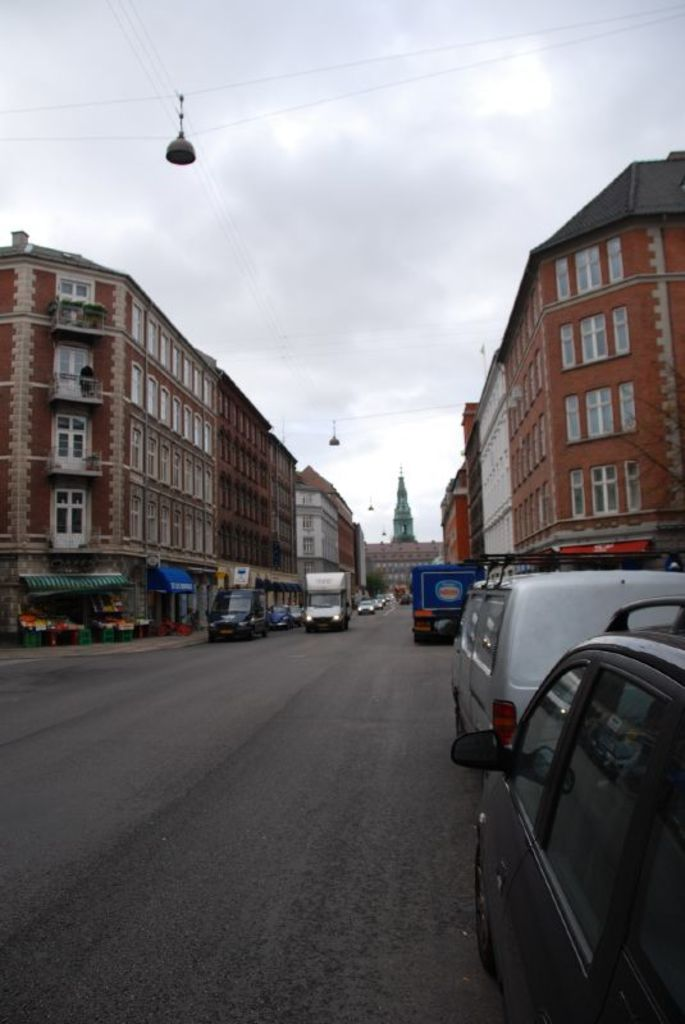mobil: (196, 594, 268, 647)
